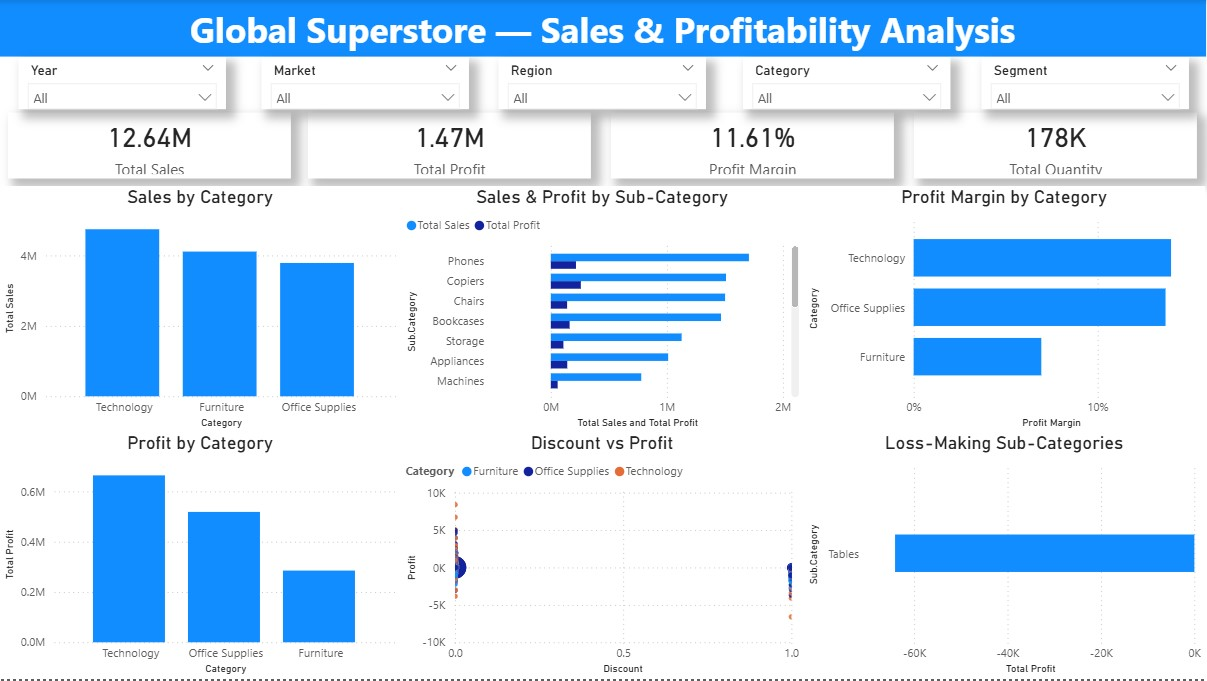

This screenshot's page, from the dashboard's own definition file:
{"tool":"powerbi","page":{"name":"Sales & Profitability","canvas":[1280,720],"ordinal":1},"visuals":[{"type":"textbox","box":[0,0,1280,60],"z":0},{"type":"card","fields":{"Values":["DateTable.Total Sales"]},"box":[10,120,300,70],"z":1000},{"type":"card","fields":{"Values":["DateTable.Total Profit"]},"box":[328.3,120,300,70],"z":2000},{"type":"card","fields":{"Values":["DateTable.Profit Margin"]},"box":[648.3,120,300,70],"z":3000},{"type":"card","fields":{"Values":["DateTable.Total Quantity"]},"box":[970,120,300,70],"z":4000},{"type":"slicer","fields":{"Values":["DateTable.Year"]},"box":[20,60,220,55],"z":5000},{"type":"slicer","fields":{"Values":["superstore.Market"]},"box":[278.3,60,220,55],"z":6000},{"type":"slicer","fields":{"Values":["superstore.Region"]},"box":[530,60,220,55],"z":7000},{"type":"slicer","fields":{"Values":["superstore.Category"]},"box":[788.3,60,220,55],"z":8000},{"type":"slicer","fields":{"Values":["superstore.Segment"]},"box":[1041.7,60,220,55],"z":9000},{"type":"clusteredColumnChart","title":"Sales by Category","fields":{"Category":["superstore.Category"],"Y":["DateTable.Total Sales"]},"box":[0,196.7,426.7,261.7],"z":10000},{"type":"clusteredColumnChart","title":"Profit by Category","fields":{"Category":["superstore.Category"],"Y":["DateTable.Total Profit"]},"box":[0,458.3,426.7,261.7],"z":11000},{"type":"clusteredBarChart","title":"Sales & Profit by Sub-Category","fields":{"Category":["superstore.Sub.Category"],"Y":["DateTable.Total Sales","DateTable.Total Profit"]},"box":[426.7,196.7,426.7,261.7],"z":12000},{"type":"scatterChart","title":"Discount vs Profit","fields":{"X":["superstore.Discount"],"Y":["superstore.Profit"],"Size":["CountNonNull(superstore.Sales)"],"Series":["superstore.Category"]},"box":[426.7,458.3,426.7,261.7],"z":13000},{"type":"clusteredBarChart","title":"Profit Margin by Category","fields":{"Category":["superstore.Category"],"Y":["DateTable.Profit Margin"]},"box":[853.3,196.7,426.7,261.7],"z":14000},{"type":"clusteredBarChart","title":"Loss-Making Sub-Categories","fields":{"Category":["superstore.Sub.Category"],"Y":["DateTable.Total Profit"]},"box":[853.3,458.3,426.7,261.7],"z":15000}]}

Visuals, with their boxes in screenshot pixels (x1, y1, x2, y2), scaled from the page's 1280x720 canvas onto the 1207x681 screenshot:
textbox: pyautogui.locateOnScreen(0, 0, 1206, 57)
card - DateTable.Total Sales: pyautogui.locateOnScreen(9, 114, 292, 180)
card - DateTable.Total Profit: pyautogui.locateOnScreen(310, 114, 592, 180)
card - DateTable.Profit Margin: pyautogui.locateOnScreen(611, 114, 894, 180)
card - DateTable.Total Quantity: pyautogui.locateOnScreen(915, 114, 1198, 180)
slicer - DateTable.Year: pyautogui.locateOnScreen(19, 57, 226, 109)
slicer - superstore.Market: pyautogui.locateOnScreen(262, 57, 470, 109)
slicer - superstore.Region: pyautogui.locateOnScreen(500, 57, 707, 109)
slicer - superstore.Category: pyautogui.locateOnScreen(743, 57, 951, 109)
slicer - superstore.Segment: pyautogui.locateOnScreen(982, 57, 1190, 109)
"Sales by Category" clusteredColumnChart: pyautogui.locateOnScreen(0, 186, 402, 434)
"Profit by Category" clusteredColumnChart: pyautogui.locateOnScreen(0, 433, 402, 680)
"Sales & Profit by Sub-Category" clusteredBarChart: pyautogui.locateOnScreen(402, 186, 805, 434)
"Discount vs Profit" scatterChart: pyautogui.locateOnScreen(402, 433, 805, 680)
"Profit Margin by Category" clusteredBarChart: pyautogui.locateOnScreen(805, 186, 1206, 434)
"Loss-Making Sub-Categories" clusteredBarChart: pyautogui.locateOnScreen(805, 433, 1206, 680)
